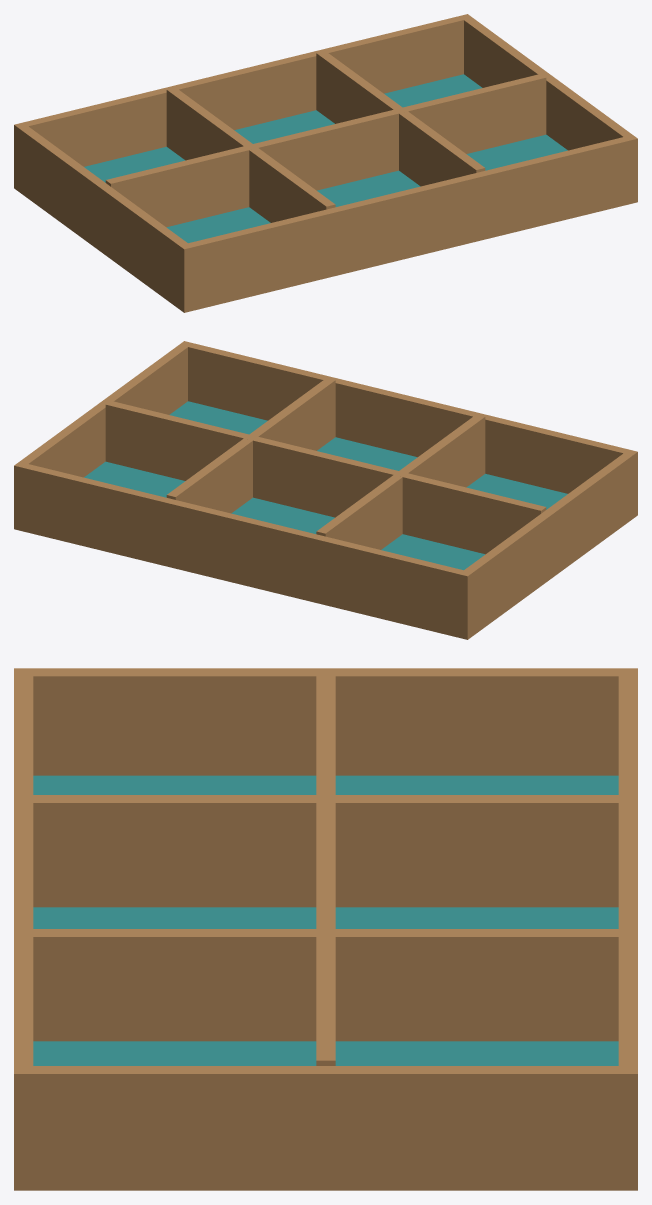
The model's file is tabletop-game-components-component-organizer-b5ca0b7a__20886.glb.
3 renders of one model, top to bottom at view 1: azimuth 30°, elevation 25°; view 2: azimuth 150°, elevation 25°; view 3: azimuth 270°, elevation 25°, orthographic. The views are drawn at different scales.
Visible parts, largest first — view 1: component-organizer; view 2: component-organizer; view 3: component-organizer.
Part boxes in pixels (x1,y1,x2,y2): component-organizer: (14, 14, 637, 312); component-organizer: (14, 341, 637, 639); component-organizer: (14, 668, 637, 1190).
Bounding box in the file's own units: 0.2 × 0.028 × 0.13.
